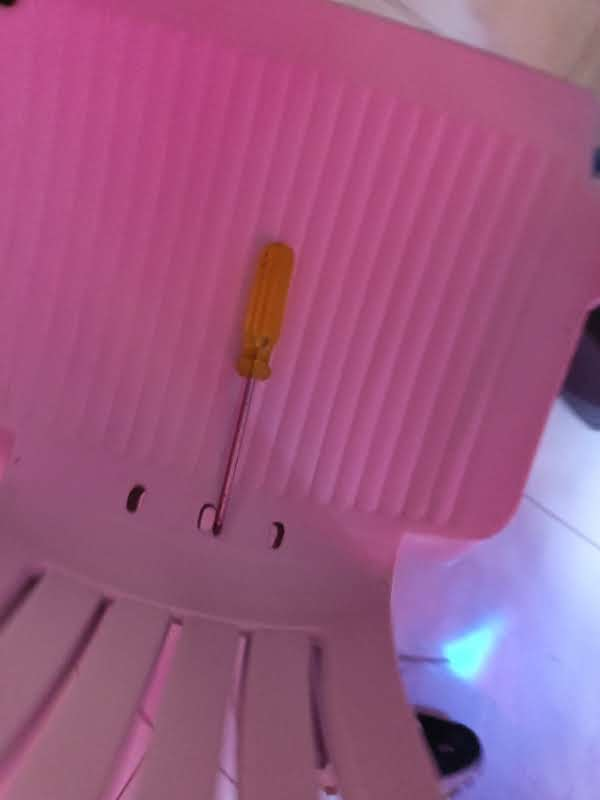Destornillador: (211, 243, 293, 536)
